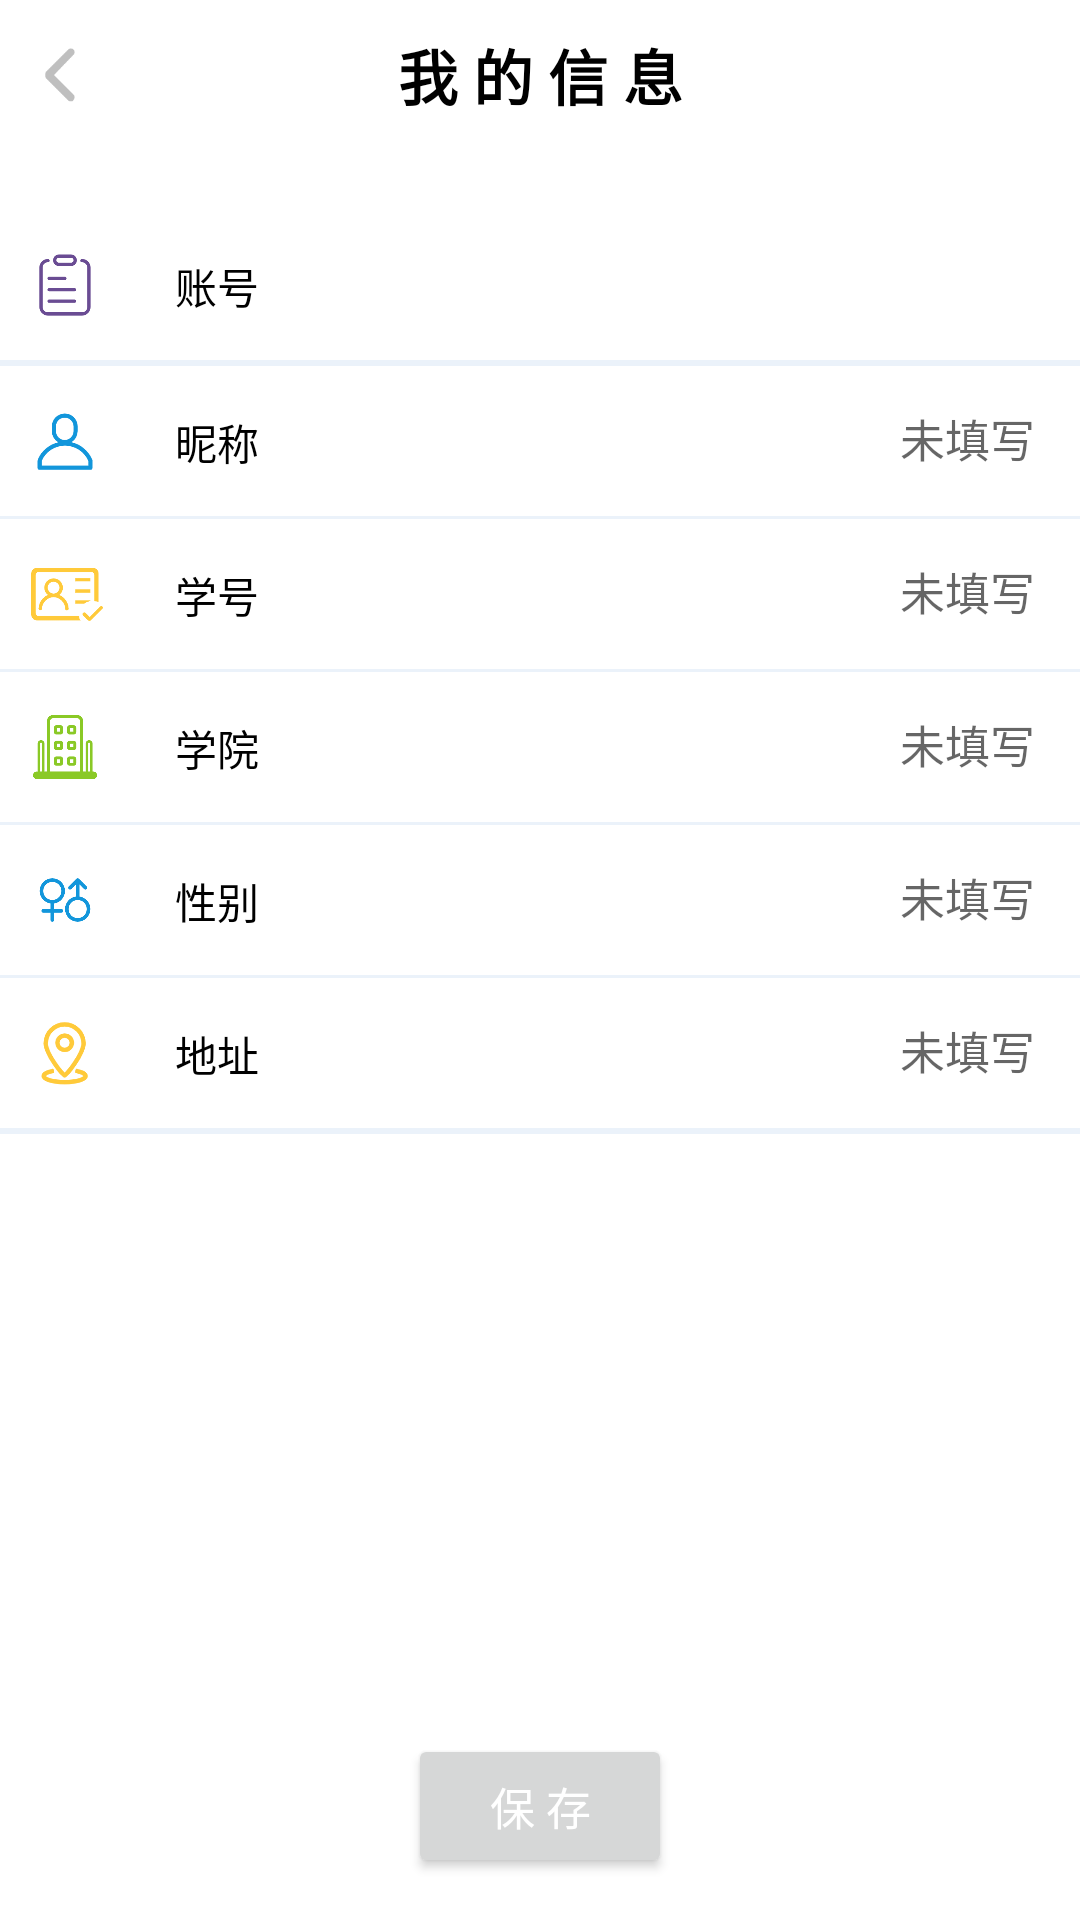

Where icons sit on this 1080*1920 app screen, as (x1, y1, x2, y2):
back: (45, 48, 75, 101)
order: (39, 254, 91, 316)
